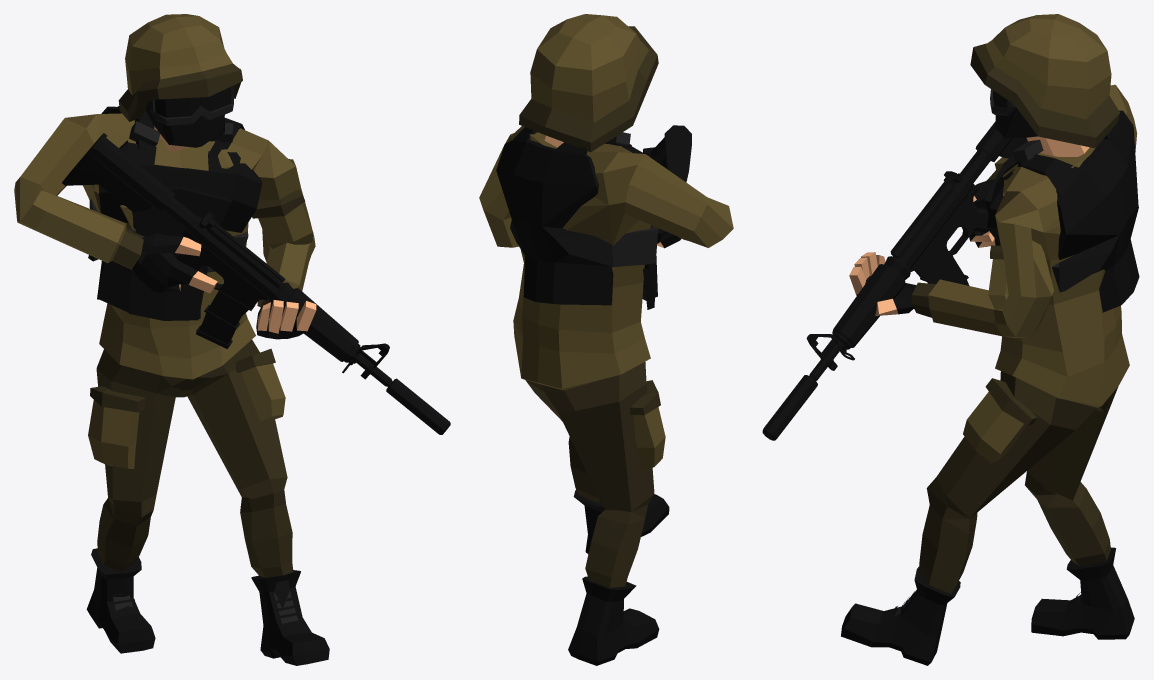
File: soldier2.obj
3 views of the same model, side by side, from view 1: azimuth 30°, elevation 25°; view 2: azimuth 150°, elevation 25°; view 3: azimuth 270°, elevation 25° (orthographic). The views are drawn at different scales.
Parts seen in each view (by area): view 1: Soldat_Cylinder.001, M4_Cube.001, M4_Amo_Cube.007; view 2: Soldat_Cylinder.001, M4_Cube.001; view 3: Soldat_Cylinder.001, M4_Cube.001, M4_Amo_Cube.007.
Part boxes in pixels (x1,y1,x2,y2): Soldat_Cylinder.001: (14, 14, 329, 665); M4_Cube.001: (62, 133, 450, 434); M4_Amo_Cube.007: (196, 290, 248, 348); Soldat_Cylinder.001: (479, 14, 733, 665); M4_Cube.001: (643, 125, 691, 243); Soldat_Cylinder.001: (841, 14, 1139, 665); M4_Cube.001: (762, 121, 1027, 440); M4_Amo_Cube.007: (927, 257, 969, 285).
Bounding box in the file's own units: 15.5 × 31.63 × 17.11.
